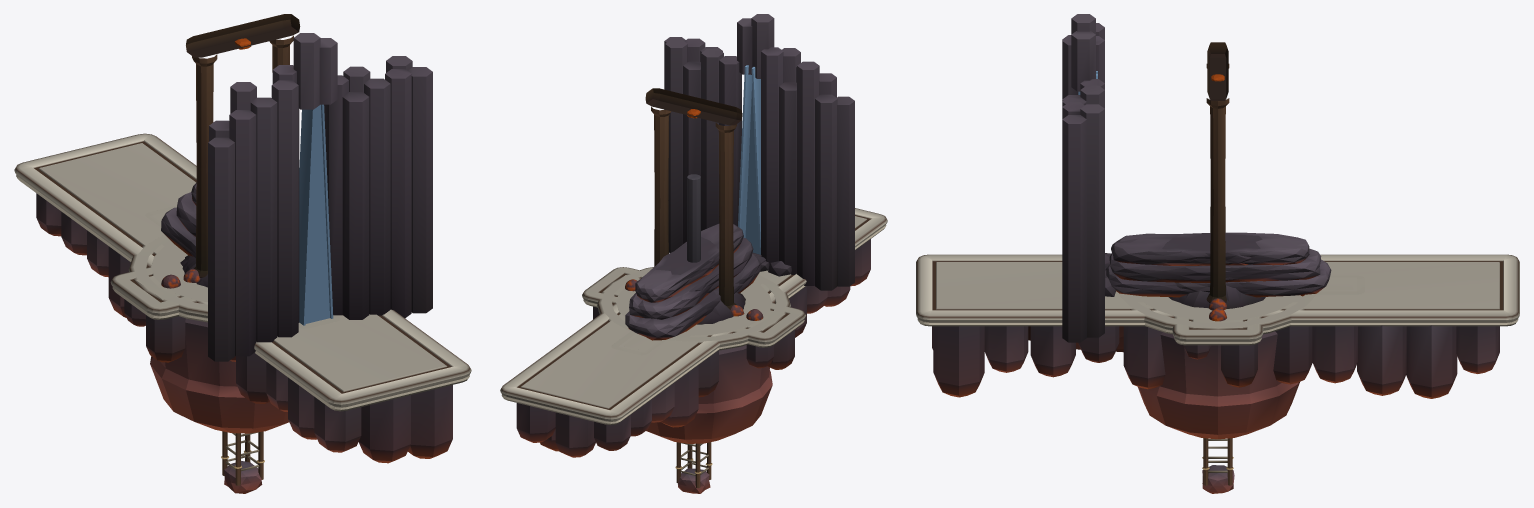
The model's file is volcano-2-CZjcKc3y.glb.
3 views of the same model, side by side, from view 1: azimuth 30°, elevation 25°; view 2: azimuth 150°, elevation 25°; view 3: azimuth 270°, elevation 25° (orthographic). The views are drawn at different scales.
Visible parts, largest first — view 1: crack_#0, block_10x2x40#0, disc_14x1.5#0, pressFrame_3.5x6x2x7#0, block_16x2x6#0, truss_14#0, spout_2x12#0; view 2: crack_#0, block_10x2x40#0, disc_14x1.5#0, pressFrame_3.5x6x2x7#0, spout_2x12#0, block_16x2x6#0, spout_2x6#0, truss_14#0, press_6x6x2#0, block_3.5x2x20#0, geyserVent_3#0; view 3: block_10x2x40#0, disc_14x1.5#0, crack_#0, spout_2x12#0, pressFrame_3.5x6x2x7#0, block_16x2x6#0, spout_2x6#0, truss_14#0, geyserVent_3#0, block_3.5x2x20#0.
Boxes of the visible parts, x1,y1,x2,y2 form: crack_#0: [208, 33, 432, 361]; block_10x2x40#0: [14, 133, 471, 463]; disc_14x1.5#0: [128, 234, 288, 433]; pressFrame_3.5x6x2x7#0: [186, 14, 300, 277]; block_16x2x6#0: [110, 267, 197, 362]; truss_14#0: [221, 431, 264, 493]; spout_2x12#0: [161, 182, 196, 256]; crack_#0: [664, 14, 854, 290]; block_10x2x40#0: [500, 208, 887, 457]; disc_14x1.5#0: [597, 267, 790, 443]; pressFrame_3.5x6x2x7#0: [645, 88, 742, 309]; spout_2x12#0: [625, 224, 760, 340]; block_16x2x6#0: [582, 267, 805, 369]; spout_2x6#0: [655, 237, 743, 315]; truss_14#0: [675, 442, 712, 493]; press_6x6x2#0: [687, 174, 700, 262]; block_3.5x2x20#0: [611, 331, 666, 355]; geyserVent_3#0: [697, 290, 745, 324]; block_10x2x40#0: [916, 254, 1519, 398]; disc_14x1.5#0: [1119, 293, 1316, 439]; crack_#0: [1062, 14, 1115, 342]; spout_2x12#0: [1105, 232, 1331, 297]; pressFrame_3.5x6x2x7#0: [1206, 42, 1229, 302]; block_16x2x6#0: [1172, 316, 1263, 387]; spout_2x6#0: [1162, 234, 1262, 295]; truss_14#0: [1202, 438, 1234, 493]; geyserVent_3#0: [1168, 285, 1265, 308]; block_3.5x2x20#0: [1115, 275, 1364, 294].
Bounding box in the file's own units: 16 × 34.25 × 40.
